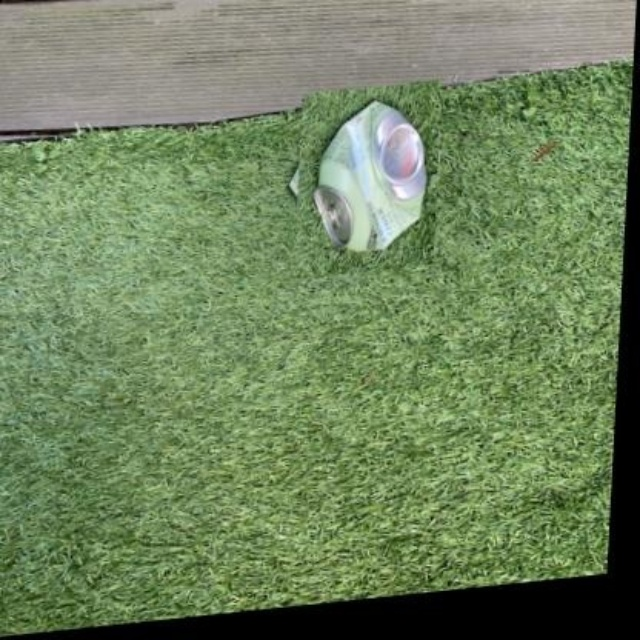trash: (314, 102, 425, 249)
